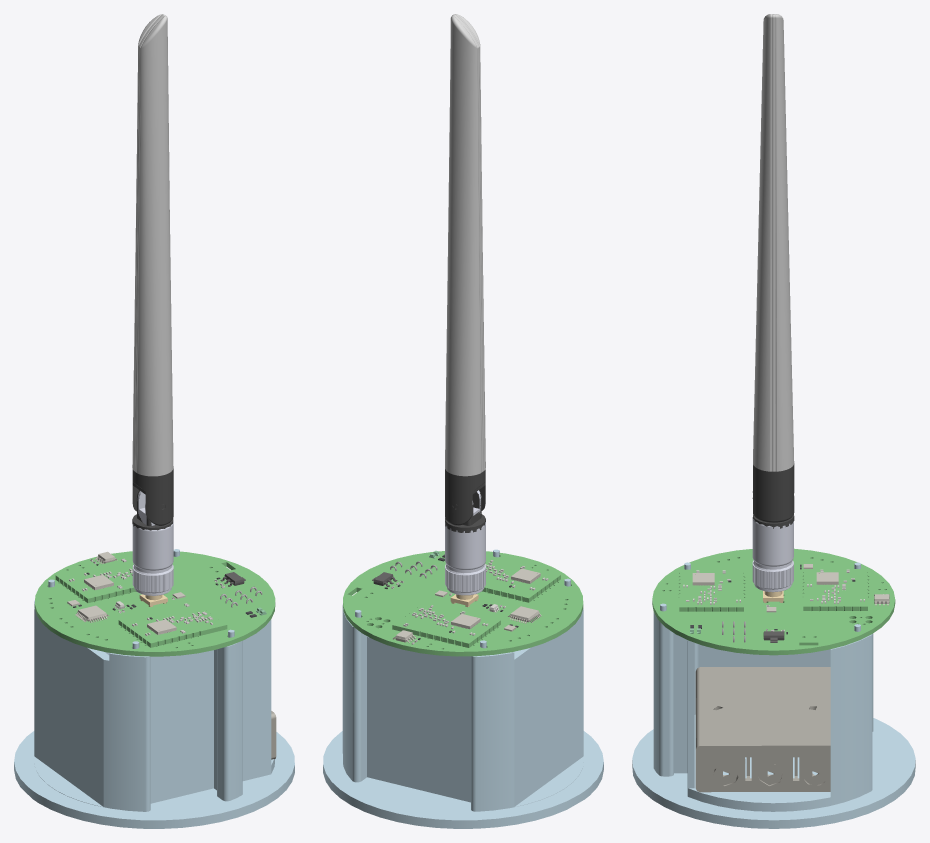
File: anl-mote-lite.gltf
3 renders of one model, left to right at view 1: azimuth 30°, elevation 25°; view 2: azimuth 150°, elevation 25°; view 3: azimuth 270°, elevation 25°, orthographic.
Parts seen in each view (by area): view 1: object 1, object 3066, mesh2075_meshnode_2075 (×2); view 2: object 1, object 3066, mesh2075_meshnode_2075 (×2); view 3: object 1, object 3066, mesh2075_meshnode_2075 (×2).
Boxes of the visible parts, x1,y1,x2,y2 form: object 1: (14,14,294,828); object 3066: (34,551,275,656); mesh2075_meshnode_2075 (×2): (56,557,226,643); object 1: (323,14,603,828); object 3066: (343,550,583,656); mesh2075_meshnode_2075 (×2): (393,556,560,643); object 1: (632,14,915,828); object 3066: (652,548,895,655); mesh2075_meshnode_2075 (×2): (679,569,867,607).
Size of the model in its own units: 0.0889 by 0.2627 by 0.0888.
